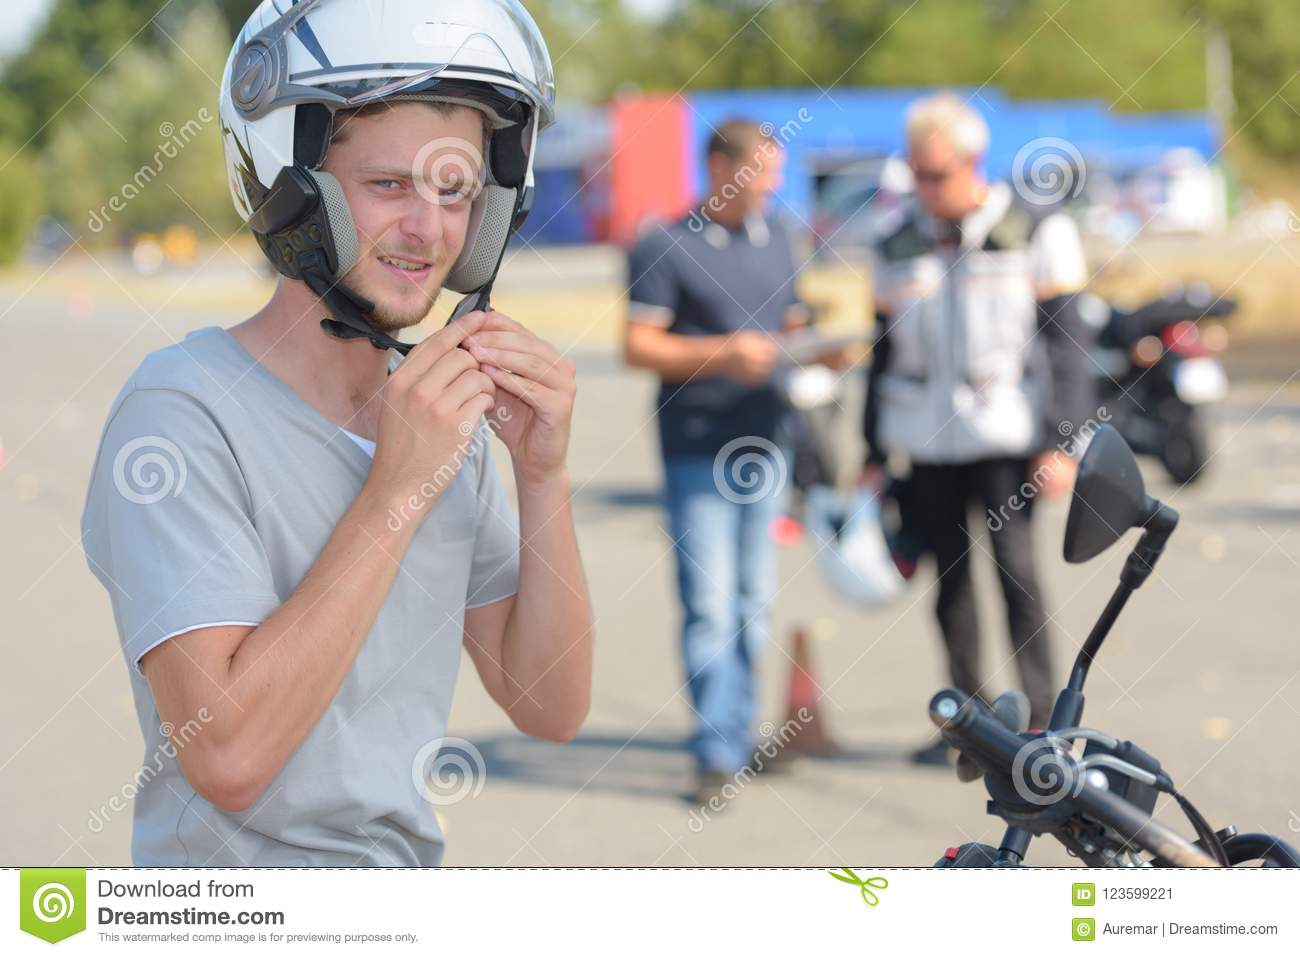helmet: (207, 4, 536, 314)
